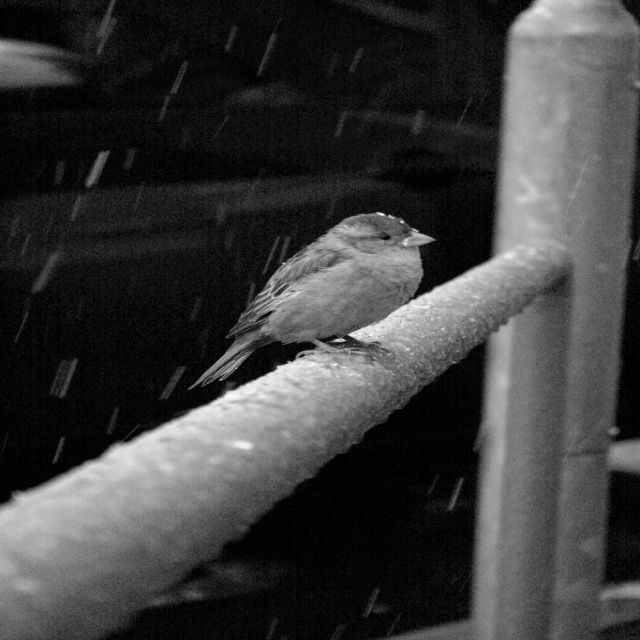Sparrow: (192, 210, 437, 389)
